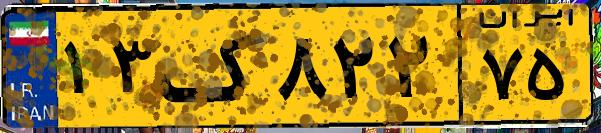1: (57, 26, 110, 100)
2: (385, 28, 445, 110), (330, 28, 385, 110)
3: (110, 28, 158, 98)
5: (525, 38, 570, 115)
7: (475, 38, 525, 113)
8: (270, 28, 330, 110)
ک: (158, 12, 270, 120)
